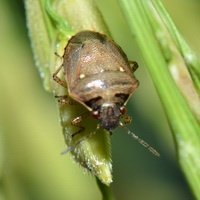insect: (53, 30, 138, 129)
